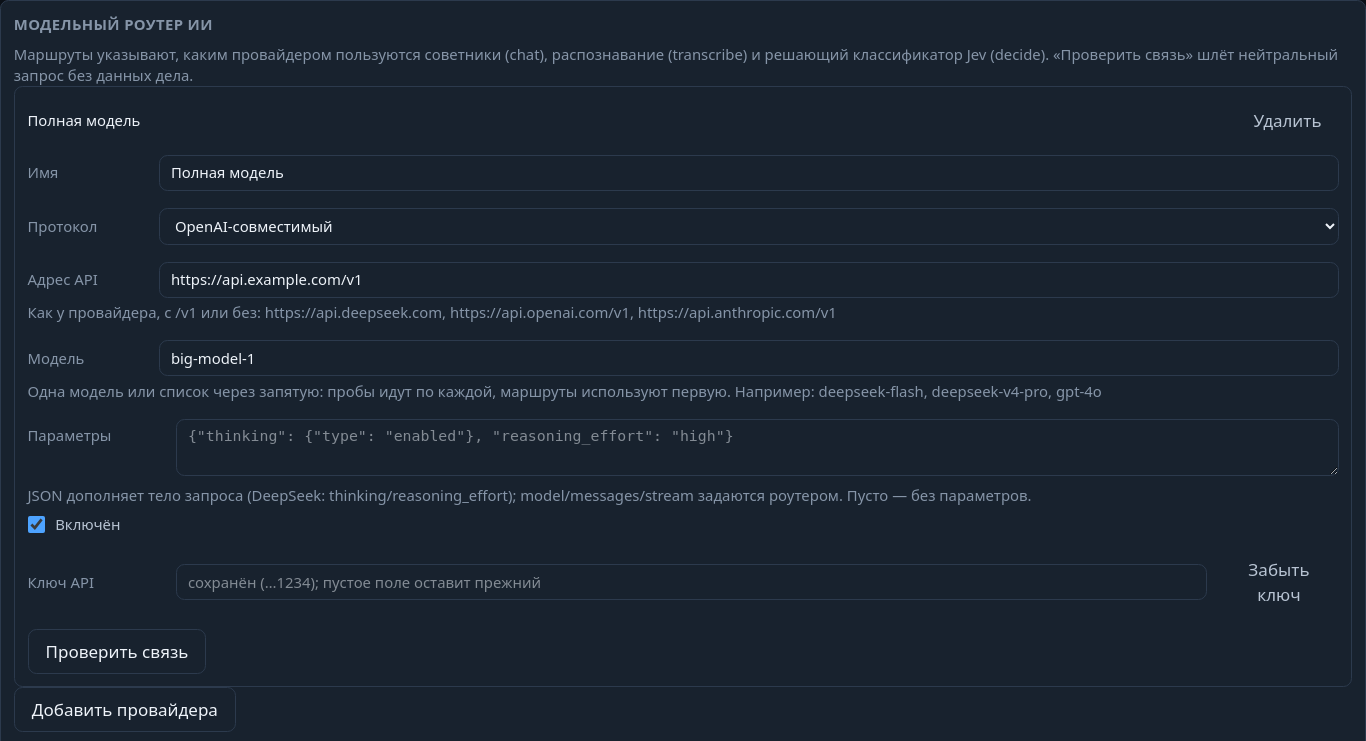
Test case: панель «Модельный роутер ИИ» › проверка связи показывает успех с задержкой
The width and height of the screenshot is (1366, 741).
Check: the field labelled "Имя" is shown, box [159,155,1339,191]
Click the button "Проверить связь".
click(117, 651)  # box [28,629,206,674]
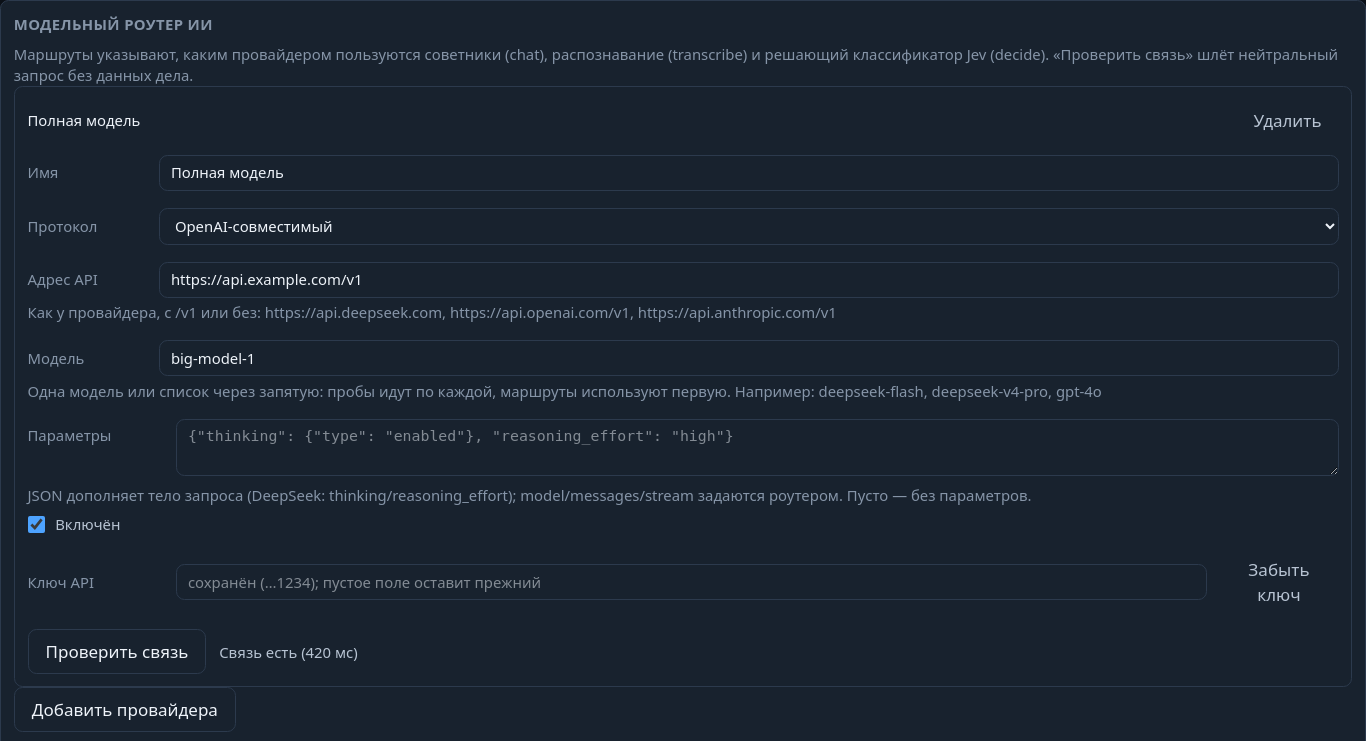
Check: the text "Связь есть (420 мс)" is shown, box [219,642,358,662]
